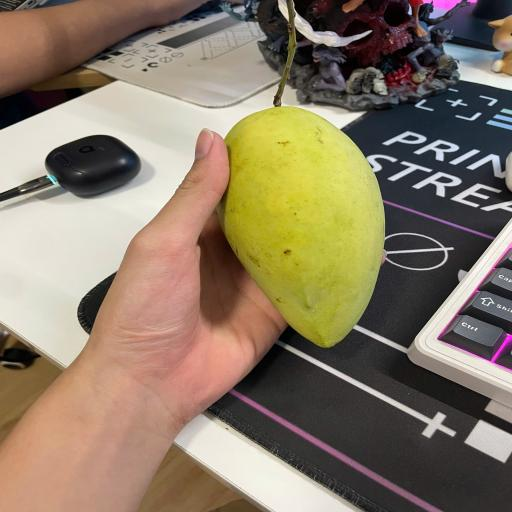xoai: (217, 106, 385, 348)
